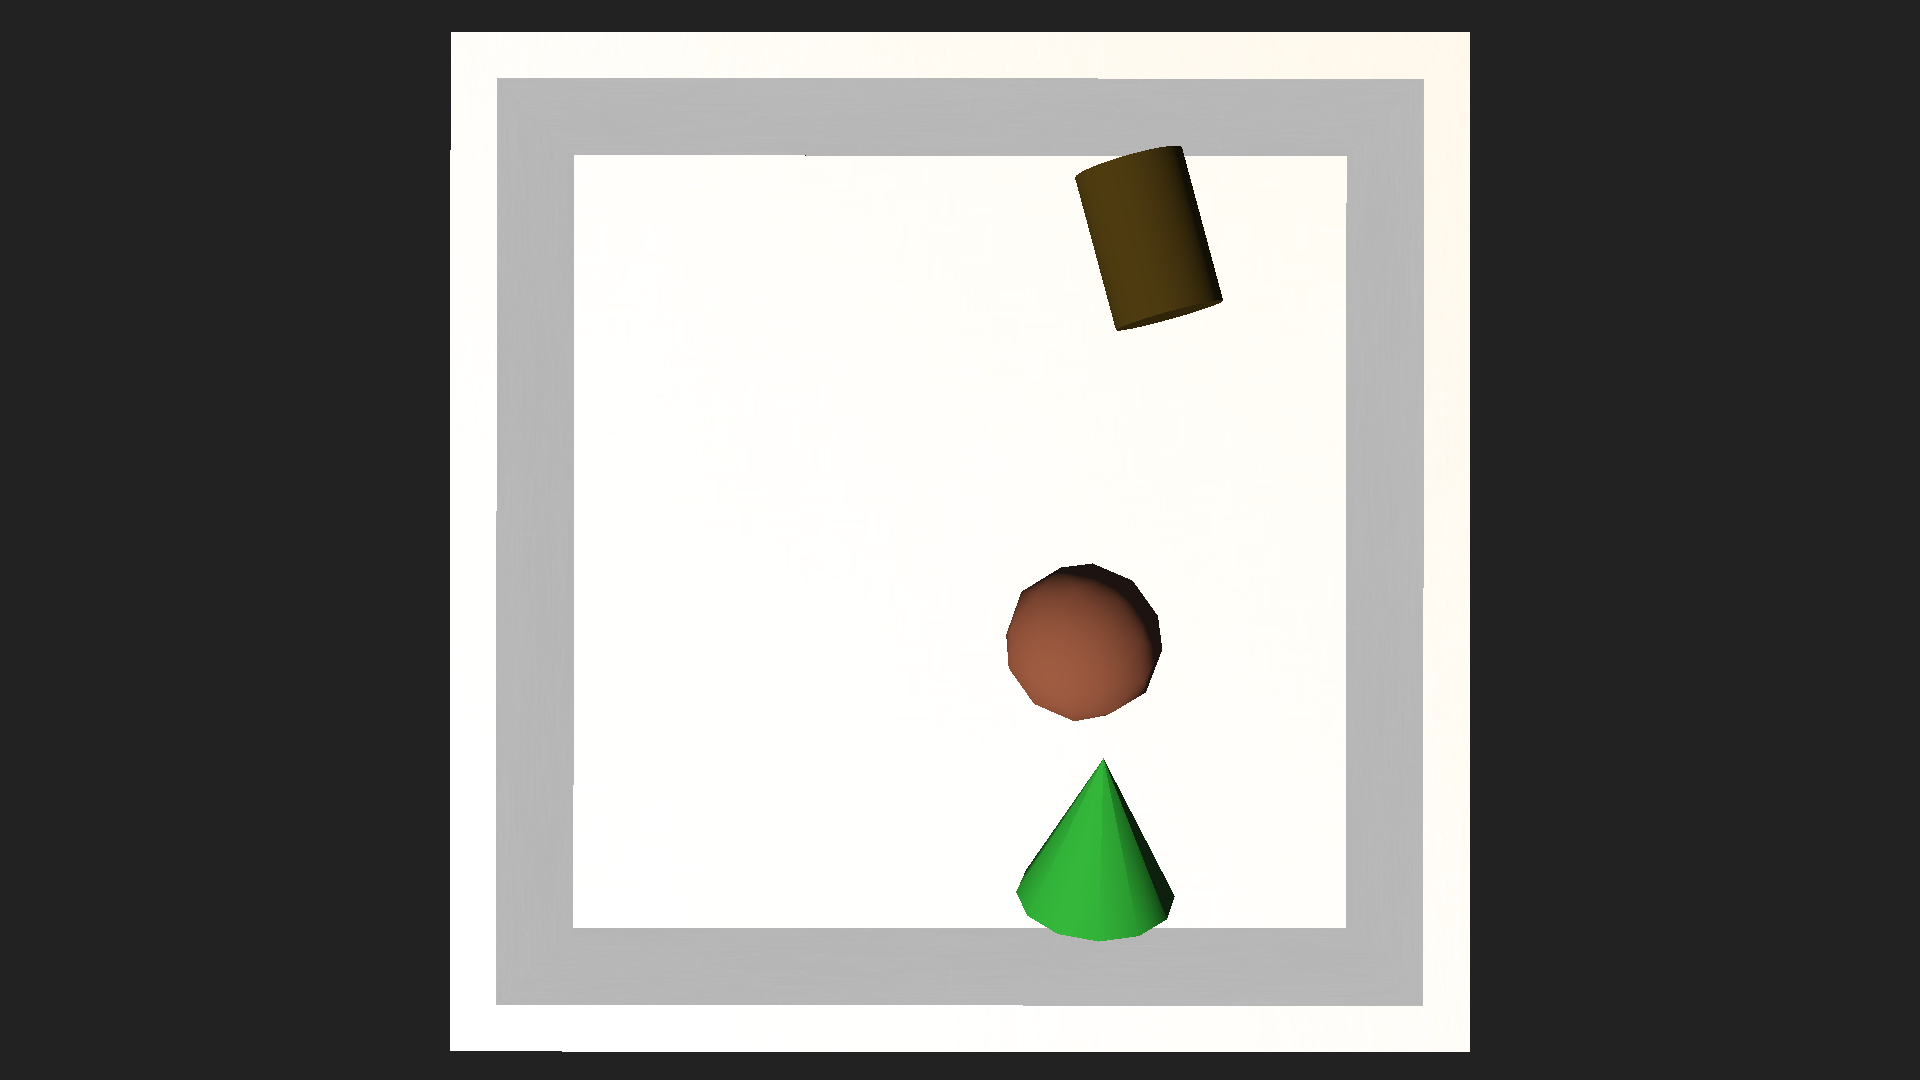cone: (1072, 138, 1229, 334)
cylinder: (1021, 712, 1183, 949)
sphere: (1004, 560, 1163, 721)
